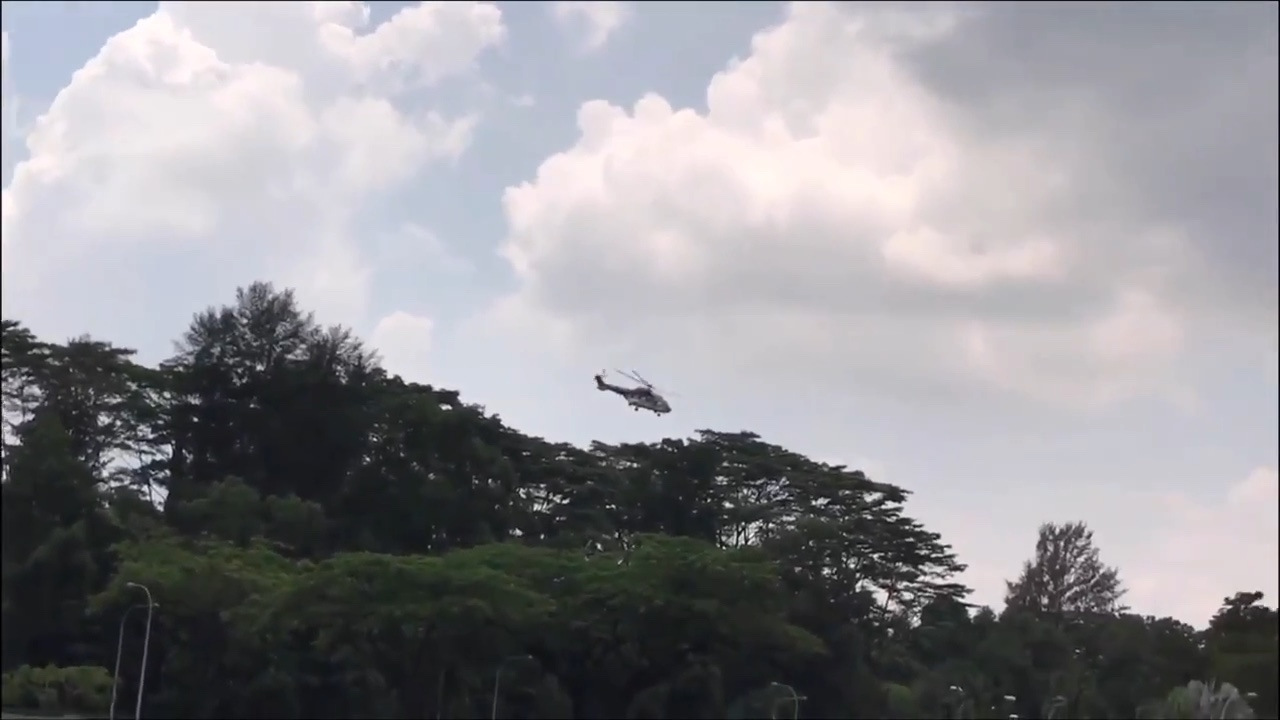cougar: (588, 359, 688, 419)
